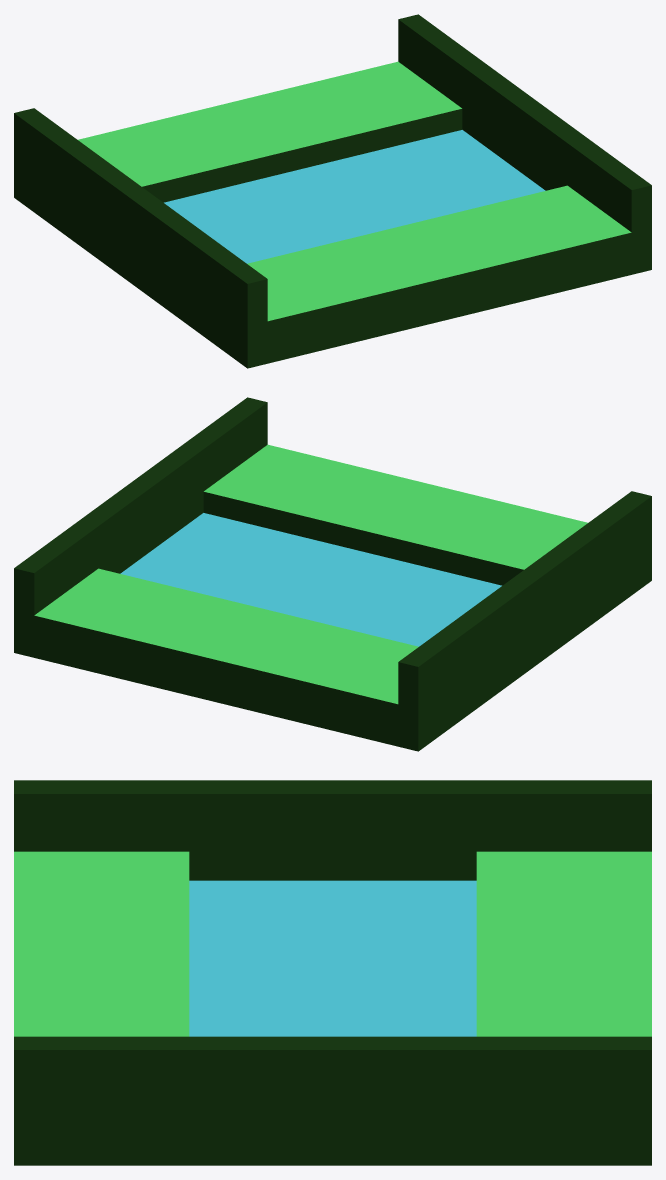
Rendered from MG Pit 2.fbx.
3 renders of one model, top to bottom at view 1: azimuth 30°, elevation 25°; view 2: azimuth 150°, elevation 25°; view 3: azimuth 270°, elevation 25°, orthographic. The views are drawn at different scales.
Parts seen in each view (by area): view 1: MG Pit 2; view 2: MG Pit 2; view 3: MG Pit 2.
Boxes of the visible parts, left/top/right/bottom form: MG Pit 2: left=14, top=14, right=651, bottom=368; MG Pit 2: left=14, top=397, right=651, bottom=751; MG Pit 2: left=14, top=780, right=651, bottom=1165.
Bounding box in the file's own units: 200 × 40 × 200.
